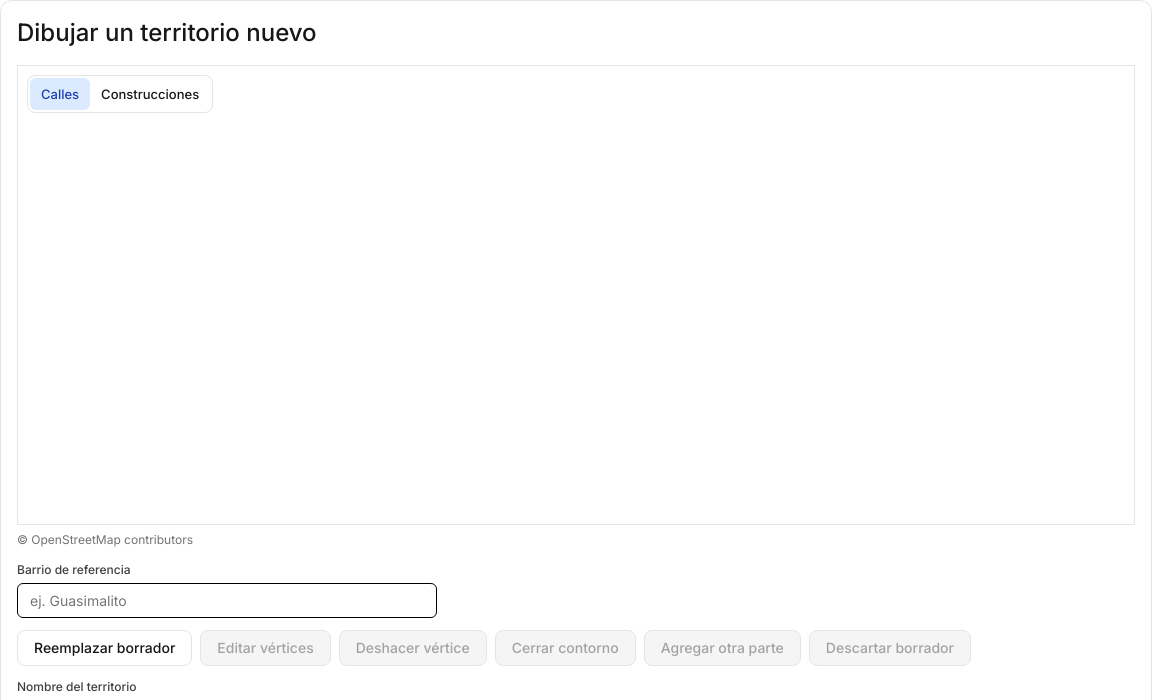
Test case: TerritoryEditor › basemap switch (2026-10-03) › re-installs the layers only once when a second switch supersedes a style still loading
The image size is (1152, 700).
Click the button "Construcciones" at (150, 94), box [90,78,210,110]
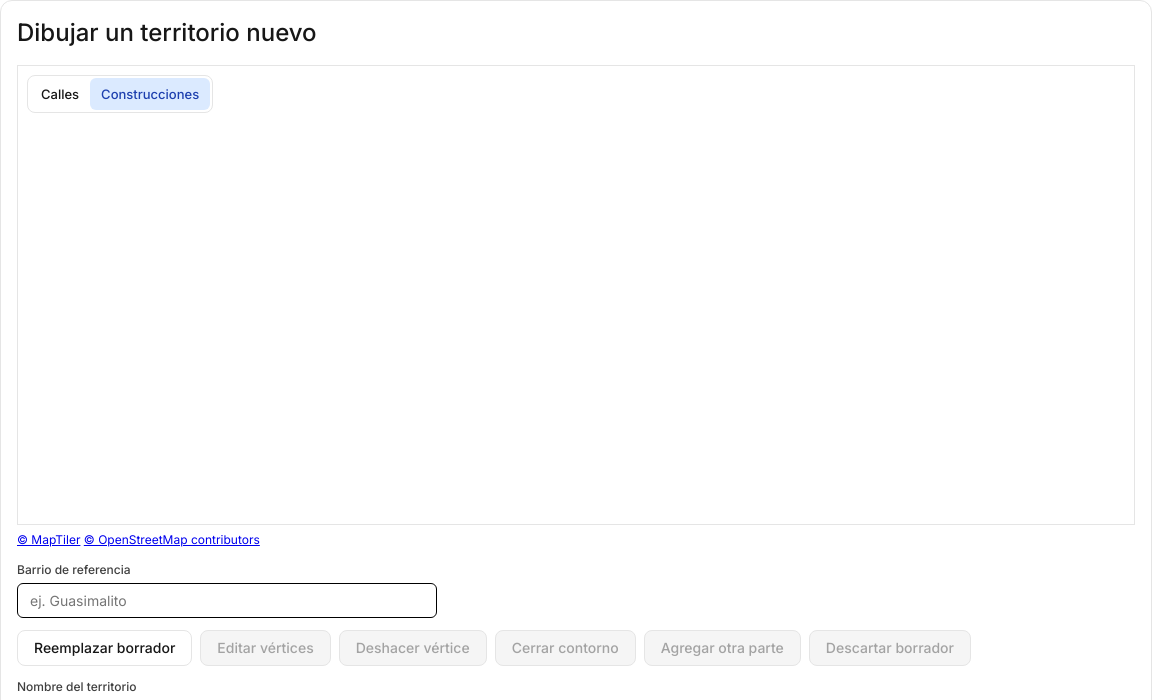
Click the button "Calles" at (60, 94), box [30,78,90,110]
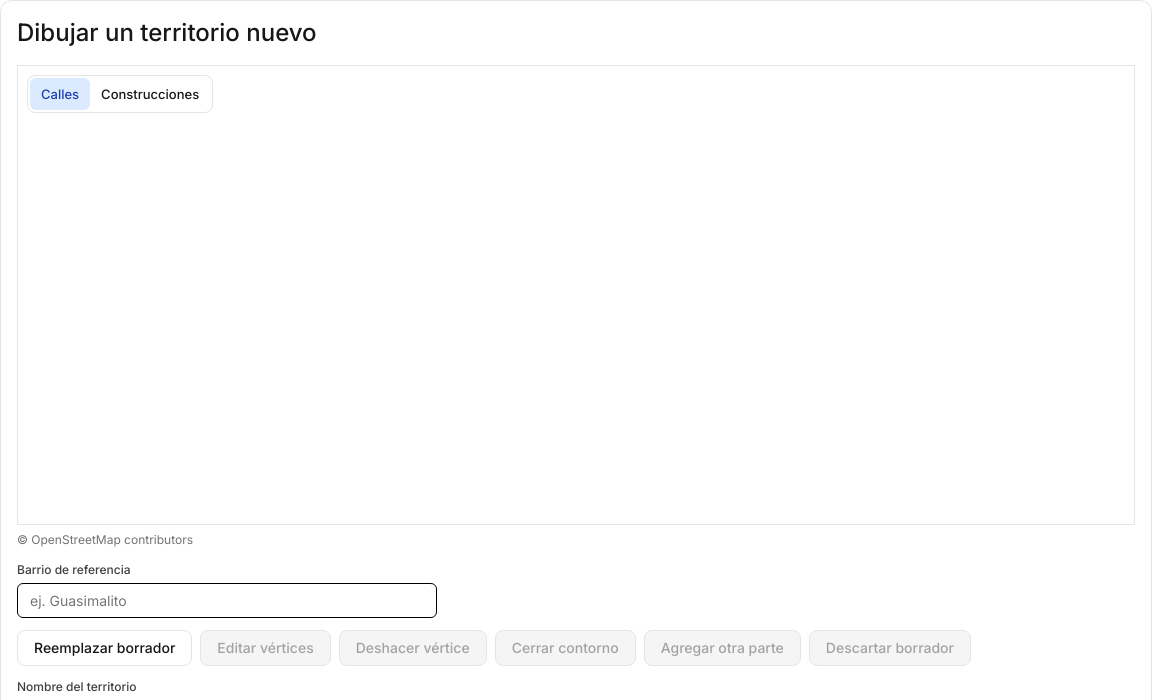
Expected: the text with class "map-attribution" reads "© OpenStreetMap contributors", [17,532,193,547]
